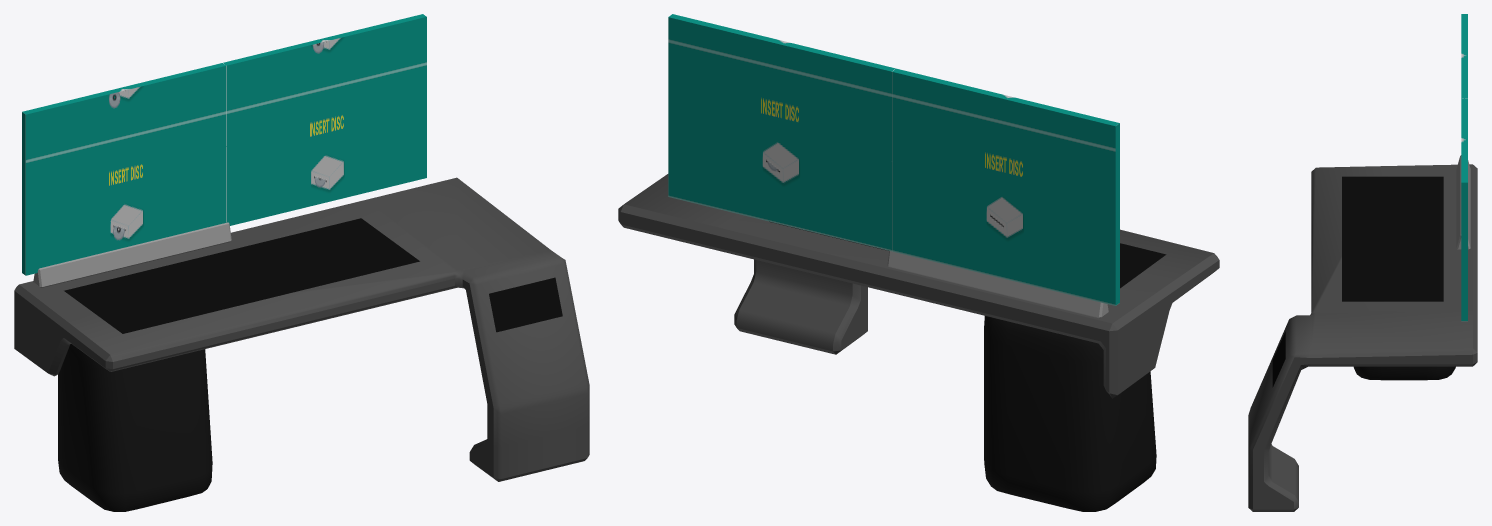
Rendered from PCController_02.fbx.
3 views of the same model, side by side, from view 1: azimuth 30°, elevation 25°; view 2: azimuth 150°, elevation 25°; view 3: azimuth 270°, elevation 25° (orthographic). The views are drawn at different scales.
Parts seen in each view (by area): view 1: Screen, PCTable, Base, Keyboard, Stand, Deco; view 2: Screen, PCTable, Base, Stand, Keyboard; view 3: PCTable, Keyboard, Screen, Base, Stand, Deco.
Boxes of the visible parts, x1=… form: Screen: x1=22, y1=14, x2=426, y2=275; PCTable: x1=14, y1=177, x2=589, y2=481; Base: x1=58, y1=344, x2=212, y2=511; Keyboard: x1=64, y1=218, x2=419, y2=333; Stand: x1=33, y1=222, x2=231, y2=287; Deco: x1=489, y1=277, x2=562, y2=332; Screen: x1=668, y1=14, x2=1119, y2=305; PCTable: x1=618, y1=174, x2=1219, y2=398; Base: x1=984, y1=316, x2=1156, y2=511; Stand: x1=887, y1=251, x2=1108, y2=318; Keyboard: x1=769, y1=221, x2=1166, y2=288; PCTable: x1=1248, y1=164, x2=1477, y2=511; Keyboard: x1=1342, y1=176, x2=1443, y2=301; Screen: x1=1461, y1=14, x2=1467, y2=321; Base: x1=1353, y1=366, x2=1455, y2=380; Stand: x1=1456, y1=155, x2=1470, y2=249; Deco: x1=1272, y1=331, x2=1285, y2=387.
Size of the model in its own units: 237 by 122 by 185.
5 materials, 1 textured.
